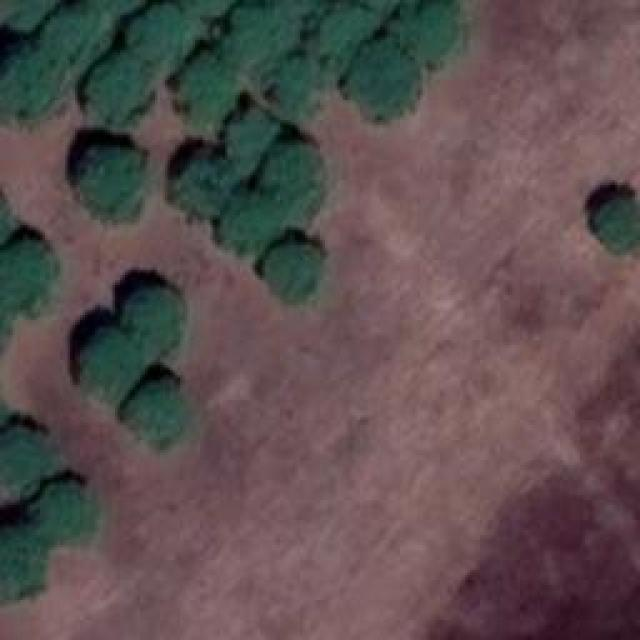Tree: (348, 40, 421, 118), (0, 40, 70, 115), (218, 0, 298, 65), (173, 48, 236, 128), (125, 0, 198, 65), (70, 332, 138, 400), (78, 148, 141, 221), (130, 375, 193, 443), (265, 140, 328, 208), (310, 0, 373, 68), (33, 480, 98, 545), (90, 53, 150, 123), (397, 0, 462, 62), (45, 0, 110, 60), (0, 245, 60, 308), (170, 158, 233, 218), (218, 110, 278, 173), (222, 195, 280, 258), (118, 293, 178, 346), (0, 523, 45, 593), (265, 245, 323, 298), (0, 430, 50, 488), (270, 55, 320, 108), (595, 200, 640, 248)
